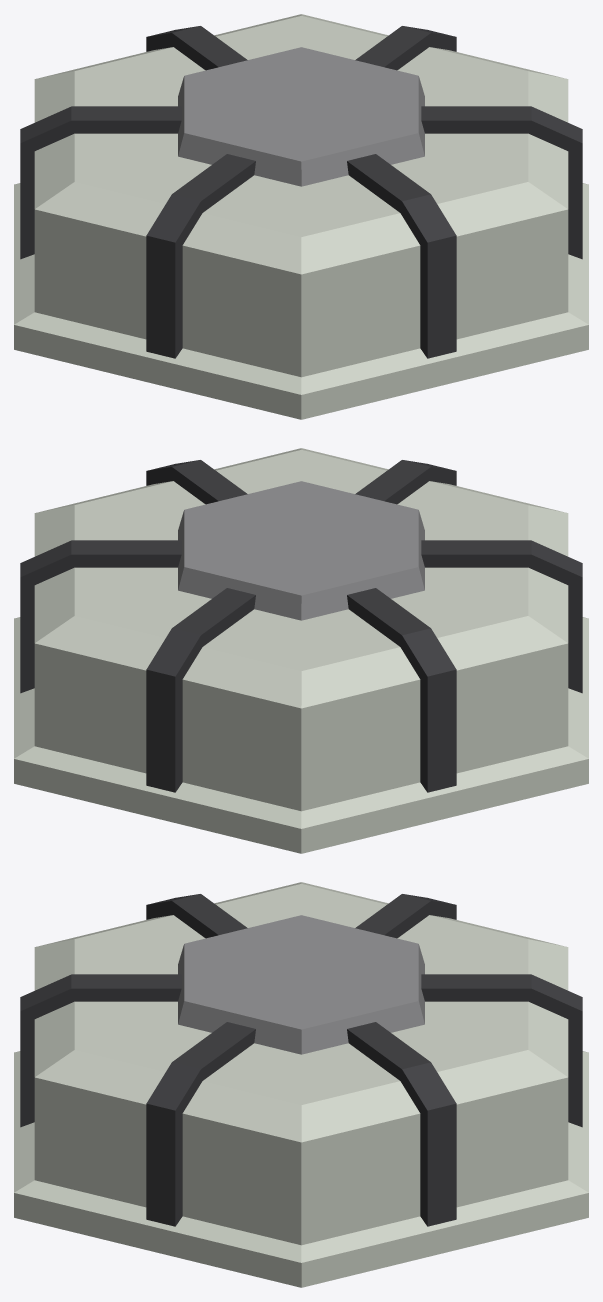
File: mine.obj
3 renders of one model, top to bottom at view 1: azimuth 30°, elevation 25°; view 2: azimuth 150°, elevation 25°; view 3: azimuth 270°, elevation 25°, orthographic.
Visible parts, largest first — view 1: mine.obj; view 2: mine.obj; view 3: mine.obj.
Part boxes in pixels (x1=…): mine.obj: x1=14, y1=14, x2=588, y2=419; mine.obj: x1=14, y1=448, x2=588, y2=853; mine.obj: x1=14, y1=882, x2=588, y2=1287.
Bounding box in the file's own units: 0.5692 × 0.1658 × 0.4929.
